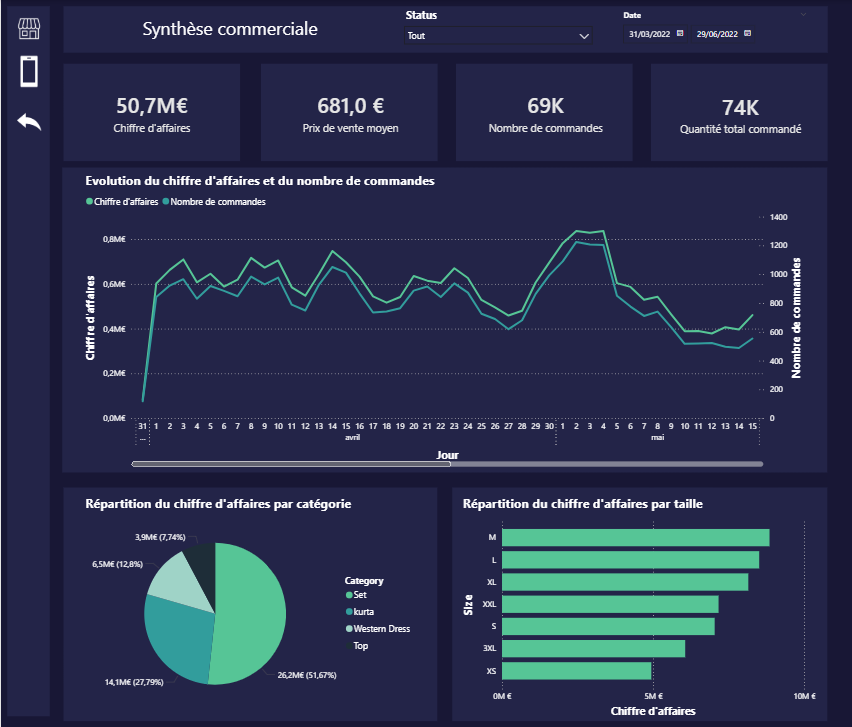

The page's visual inventory and layout, read from the dashboard file:
{"tool":"powerbi","page":{"name":"Synthèse commerciale","canvas":[1280,1100],"ordinal":0},"visuals":[{"type":"shape","box":[9.4,9.4,63.7,1064.8],"z":0},{"type":"shape","box":[94.5,8.6,1146,69.9],"z":1000},{"type":"shape","box":[94.5,95.7,265,146],"z":2000},{"type":"shape","box":[390.2,95.7,265,146],"z":3000},{"type":"shape","box":[682.2,95.7,265,146],"z":4000},{"type":"shape","box":[975.5,95.7,265,146],"z":5000},{"type":"textbox","box":[105.5,18.4,477.3,51.5],"z":6000},{"type":"cardVisual","fields":{"Data":["Amazon_Sale.Chiffre d'affaires"]},"box":[92,95.7,269.9,146],"z":7000},{"type":"cardVisual","fields":{"Data":["Amazon_Sale.Nombre de commandes"]},"box":[682.2,95.7,269.9,146],"z":8000},{"type":"cardVisual","fields":{"Data":["Amazon_Sale.CA moyen"]},"box":[390.2,95.7,269.9,146],"z":9000},{"type":"cardVisual","fields":{"Data":["Amazon_Sale.Nb commandes annulées"]},"box":[975.5,96.9,269.9,146],"z":10000},{"type":"shape","box":[91.9,251.2,1147.2,457.4],"z":11000},{"type":"lineChart","title":"Evolution du chiffre d''affaires et du nombre de commandes","fields":{"Y":["Amazon_Sale.Chiffre d'affaires"],"Category":["Amazon_Sale.Date.Variation.Hiérarchie de dates.Mois","Amazon_Sale.Date.Variation.Hiérarchie de dates.Jour"],"Y2":["Amazon_Sale.Nombre de commandes"]},"box":[121.8,256.8,1089.1,448],"z":12000},{"type":"shape","box":[93.7,731.1,560.5,350.5],"z":13000},{"type":"pieChart","title":"Répartition du chiffre d''affaires par catégorie","fields":{"Category":["dim_product.Category"],"Y":["Amazon_Sale.Chiffre d'affaires"]},"box":[121.8,742.3,506.1,331.8],"z":14000},{"type":"shape","box":[675.9,730.7,562.6,350.5],"z":15000},{"type":"barChart","title":"Répartition du chiffre d''affaires par taille","fields":{"Y":["Amazon_Sale.Chiffre d'affaires"],"Category":["dim_product.Size"]},"box":[687.8,742.6,538.8,338.5],"z":16000},{"type":"slicer","fields":{"Values":["Amazon_Sale.Status"]},"box":[593.6,6,302.8,72],"z":17000},{"type":"slicer","fields":{"Values":["Amazon_Sale.Date"]},"box":[920.2,9.5,300.4,63.2],"z":18000},{"type":"image","box":[20.3,20.3,42.9,45.3],"z":19000},{"type":"image","box":[16.7,78.7,50.1,57.2],"z":20000},{"type":"image","box":[20.3,155,42.9,54.8],"z":21000}]}

Visuals, with their boxes on the page's 1280x1100 design canvas (x1, y1, x2, y2). These are canvas units, not pixel positions in the 852x727 screenshot, which may show the page scaled, cropped or inside an application window:
shape: [9,9,73,1074]
shape: [94,9,1240,78]
shape: [94,96,360,242]
shape: [390,96,655,242]
shape: [682,96,947,242]
shape: [976,96,1240,242]
textbox: [106,18,583,70]
cardVisual - Amazon_Sale.Chiffre d'affaires: [92,96,362,242]
cardVisual - Amazon_Sale.Nombre de commandes: [682,96,952,242]
cardVisual - Amazon_Sale.CA moyen: [390,96,660,242]
cardVisual - Amazon_Sale.Nb commandes annulées: [976,97,1245,243]
shape: [92,251,1239,709]
"Evolution du chiffre d''affaires et du nombre de commandes" lineChart: [122,257,1211,705]
shape: [94,731,654,1082]
"Répartition du chiffre d''affaires par catégorie" pieChart: [122,742,628,1074]
shape: [676,731,1238,1081]
"Répartition du chiffre d''affaires par taille" barChart: [688,743,1227,1081]
slicer - Amazon_Sale.Status: [594,6,896,78]
slicer - Amazon_Sale.Date: [920,10,1221,73]
image: [20,20,63,66]
image: [17,79,67,136]
image: [20,155,63,210]
